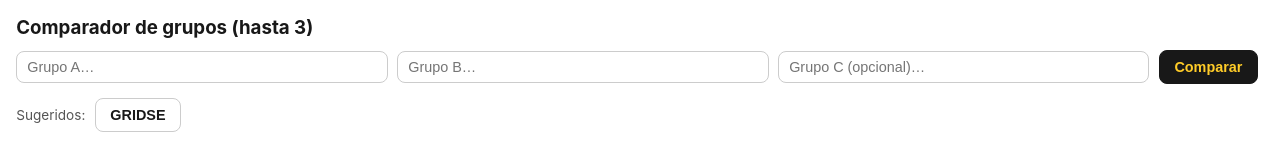
Test case: comparador › quitar un campo deja intactos los demás
Check: the heading "Comparador de grupos (hasta 3)" is shown, box [16, 16, 313, 39]
Type "PRIMERO" into the field with placeholder "Grupo A…" at (202,67), box [16, 51, 388, 83]
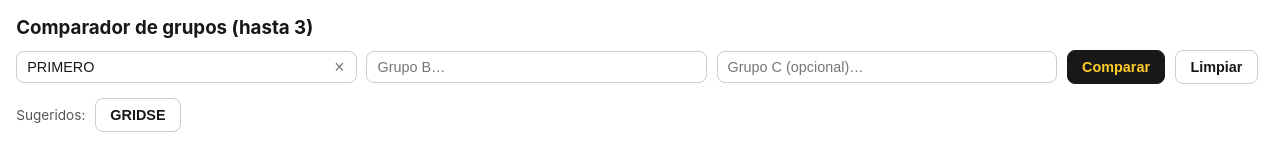
Type "SEGUNDO" into the field with placeholder "Grupo B…" at (537,67), box [366, 51, 707, 83]
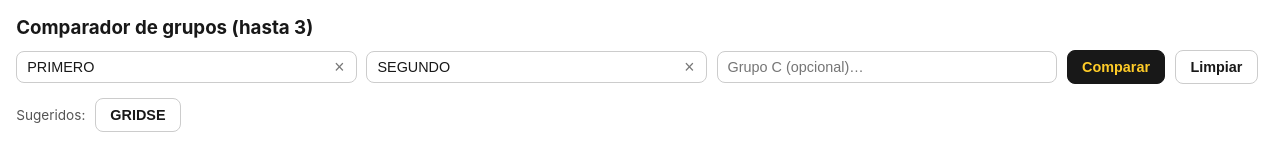
Click the button named "Quitar el grupo A" at (339,67), box [328, 56, 351, 79]
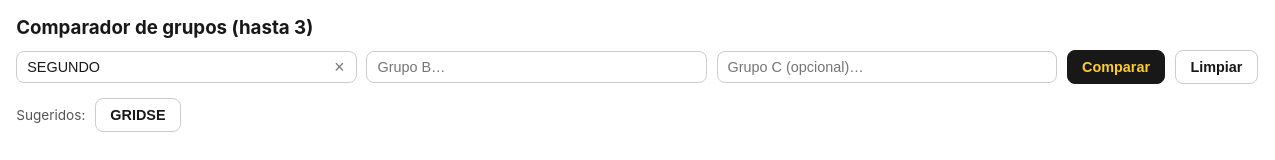
Check: the field with placeholder "Grupo C (opcional)…" is empty, box [716, 51, 1057, 83]
Check: the field with placeholder "Grupo A…" holds "SEGUNDO", box [16, 51, 357, 83]
Check: the field with placeholder "Grupo B…" is empty, box [366, 51, 707, 83]
